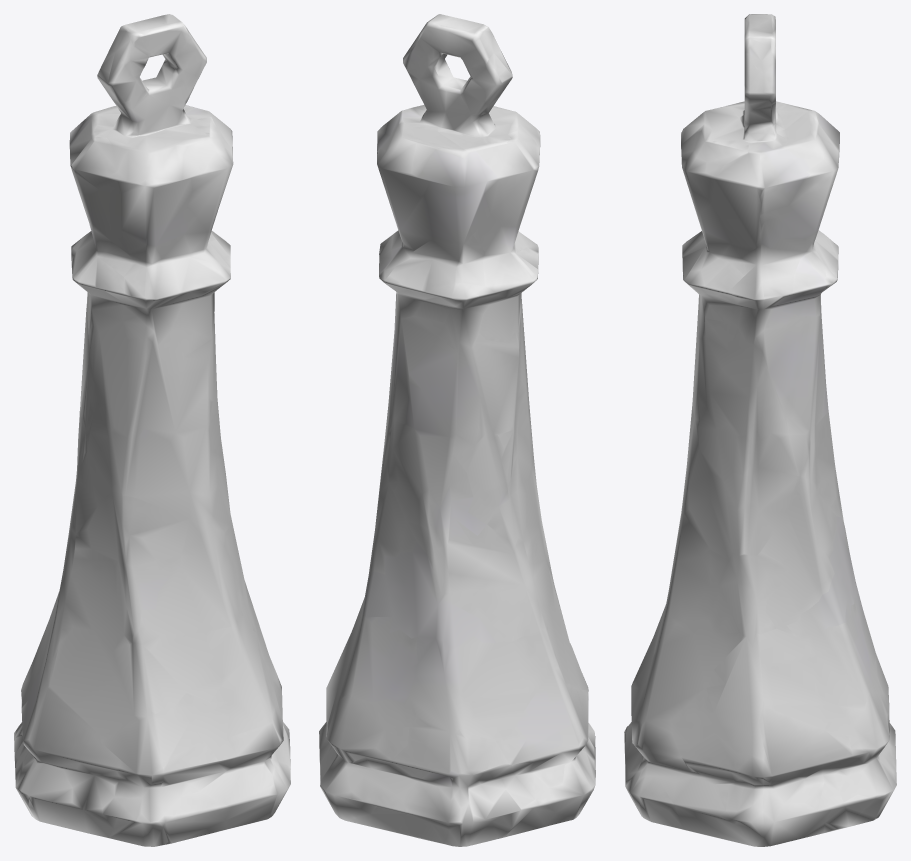
Rendered from hexa_king_white.glb.
The picture shows the model from 3 angles, left to right: view 1: azimuth 30°, elevation 25°; view 2: azimuth 150°, elevation 25°; view 3: azimuth 270°, elevation 25°; orthographic projection.
Size of the model in its own units: 0.7269 by 2 by 0.6463.
Materials: 1 (1 with a texture image).
